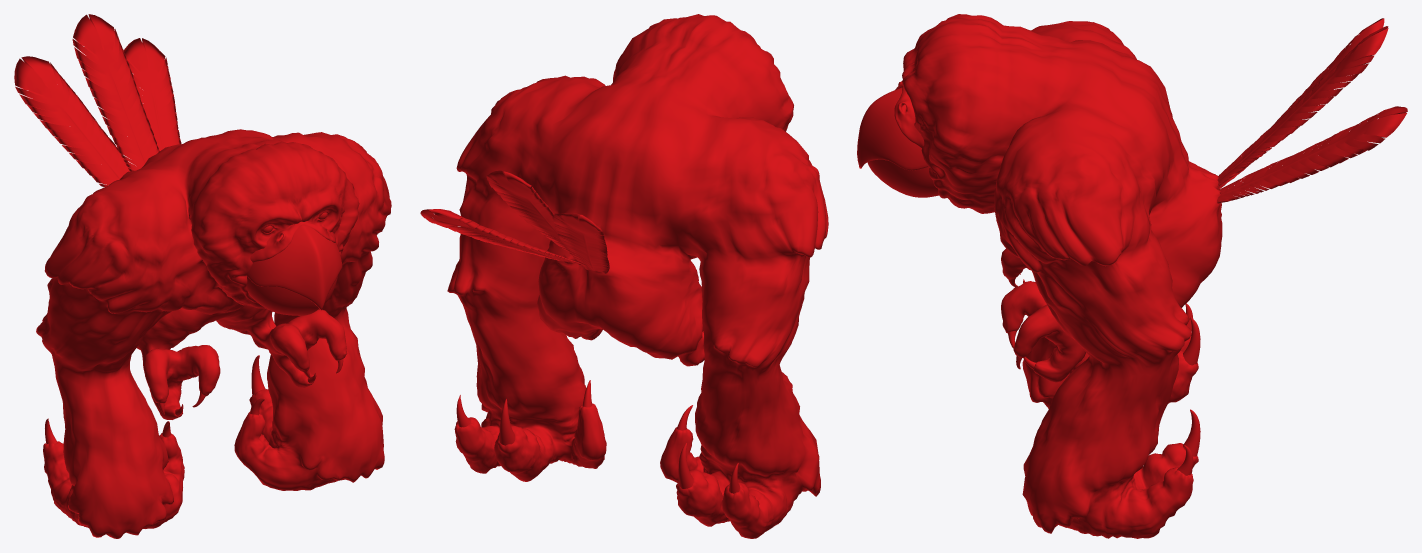
File: Unwrap.fbx
3 views of the same model, side by side, from view 1: azimuth 30°, elevation 25°; view 2: azimuth 150°, elevation 25°; view 3: azimuth 270°, elevation 25° (orthographic). The views are drawn at different scales.
Parts seen in each view (by area): view 1: Kaw.001; view 2: Kaw.001; view 3: Kaw.001.
Part boxes in pixels (bbox=[...]): Kaw.001: bbox=[14, 14, 391, 538]; Kaw.001: bbox=[420, 14, 828, 538]; Kaw.001: bbox=[857, 14, 1407, 538].
Bounding box in the file's own units: 276 × 315 × 354.
